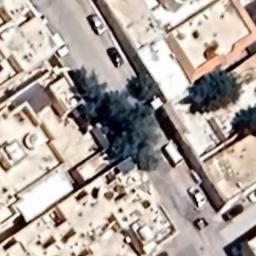SUV: (84, 12, 110, 36), (50, 32, 70, 58)
sedan: (186, 182, 208, 210), (104, 46, 124, 70)
van: (162, 141, 184, 168)
